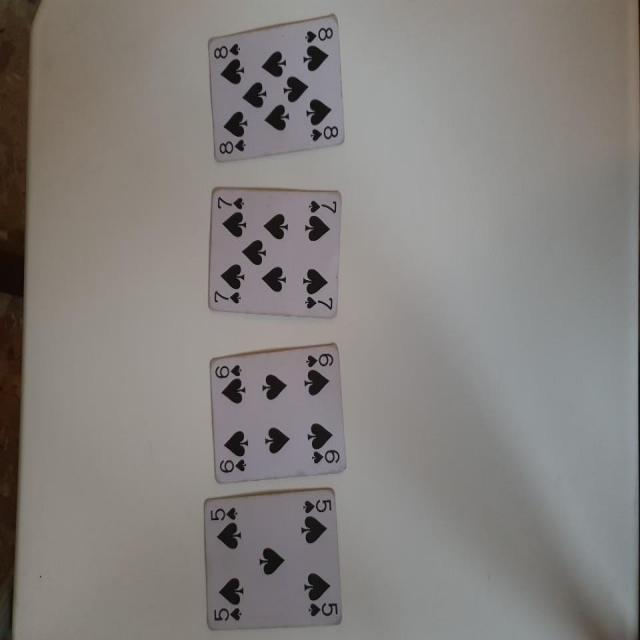5 Spades: (197, 485, 349, 634)
6 Spades: (203, 341, 353, 481)
7 Spades: (210, 183, 347, 320)
8 Spades: (203, 10, 348, 170)
